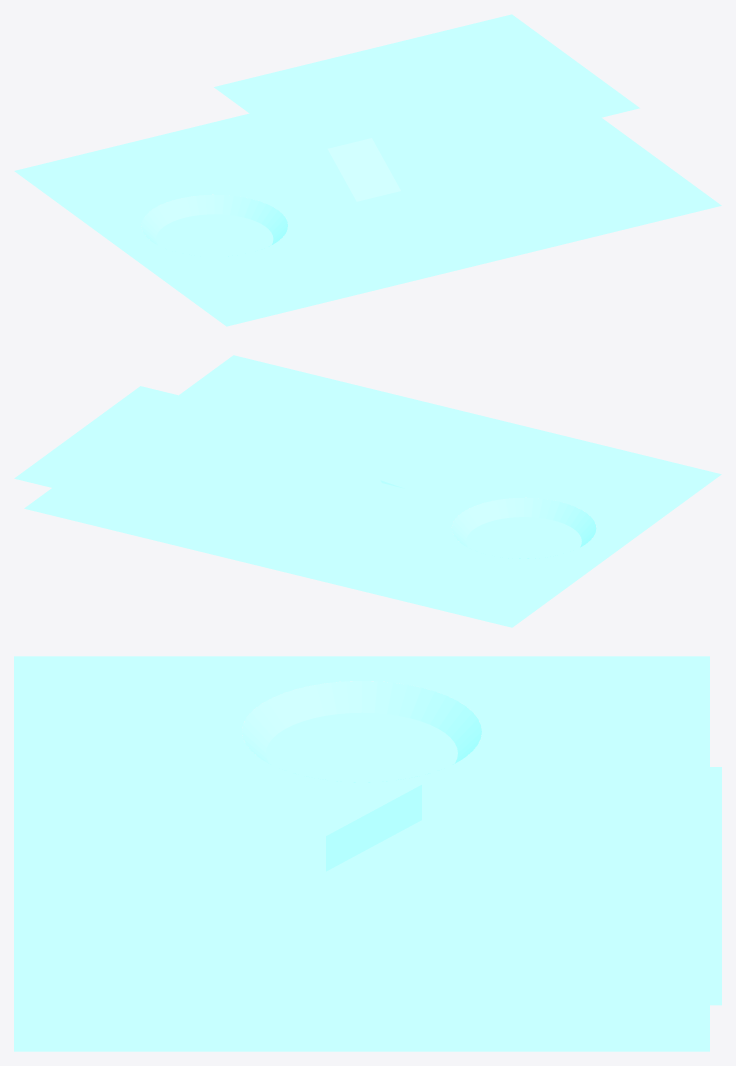
File: room-nav.glb
The picture shows the model from 3 angles, top to bottom: view 1: azimuth 30°, elevation 25°; view 2: azimuth 150°, elevation 25°; view 3: azimuth 270°, elevation 25°; orthographic projection. The views are drawn at different scales.
Parts seen in each view (by area): view 1: NAV_Walkable; view 2: NAV_Walkable; view 3: NAV_Walkable.
Boxes of the visible parts, box(x1,y1,x2,y2) form: NAV_Walkable: box(14, 14, 721, 326); NAV_Walkable: box(14, 355, 721, 627); NAV_Walkable: box(14, 656, 721, 1051).
Bounding box in the file's own units: 15.8 × 1.35 × 11.8.
